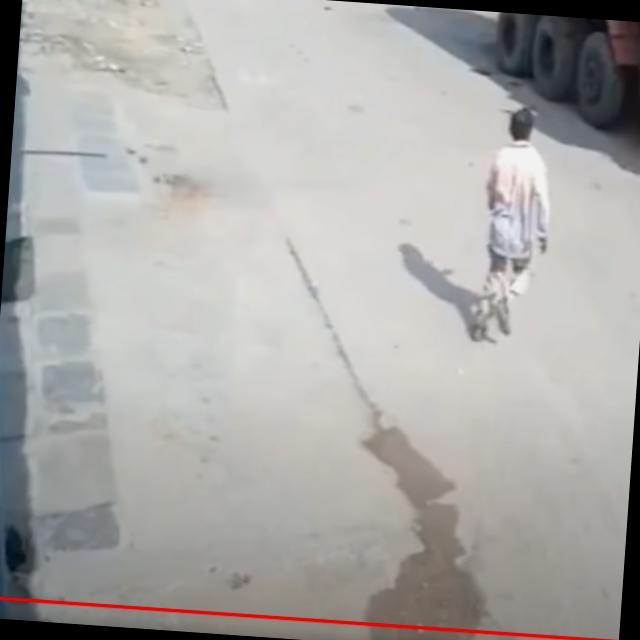person: (472, 106, 558, 344)
